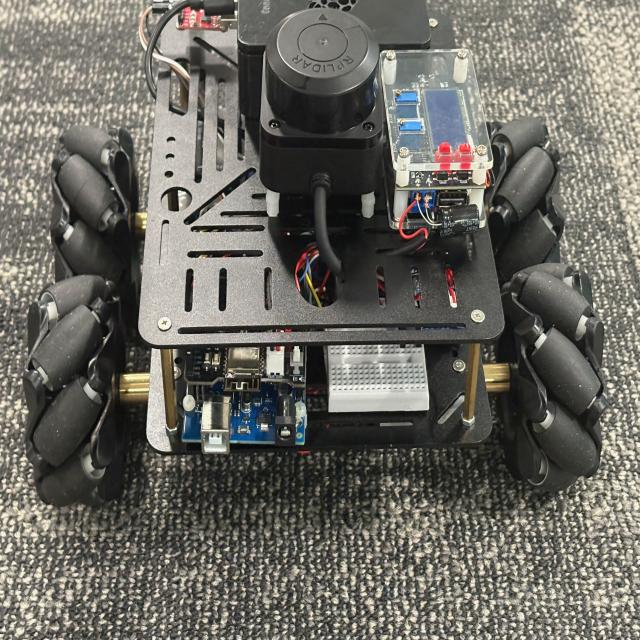ArduinoCar3: (44, 0, 600, 496)
